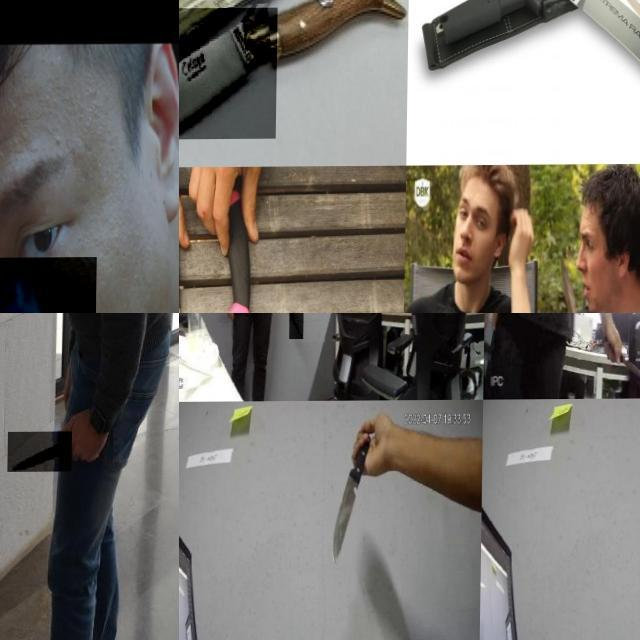-: (179, 7, 278, 140), (567, 0, 640, 111), (334, 429, 372, 577), (554, 245, 598, 313), (9, 432, 73, 472), (623, 353, 640, 388), (290, 313, 304, 339)
